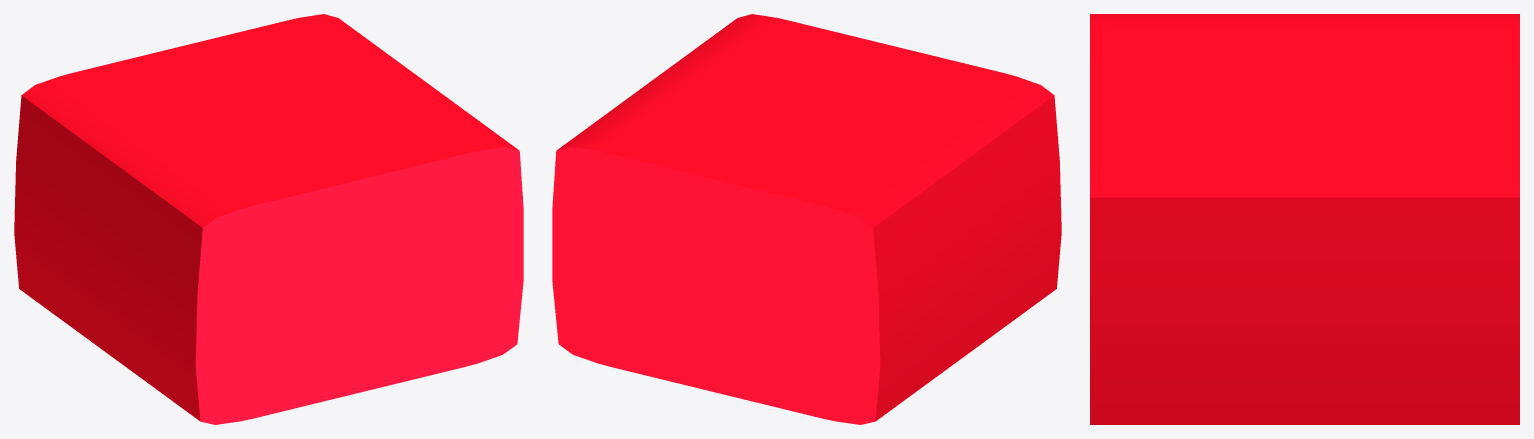
File: 9e096691-cfb4-4b2f-a790-40544fd21f9c.glb
3 views of the same model, side by side, from view 1: azimuth 30°, elevation 25°; view 2: azimuth 150°, elevation 25°; view 3: azimuth 270°, elevation 25° (orthographic). The views are drawn at different scales.
Visible parts, largest first — view 1: -_Zyzol_Red; view 2: -_Zyzol_Red; view 3: -_Zyzol_Red.
Part boxes in pixels (x1,y1,x2,y2): -_Zyzol_Red: [14, 14, 523, 424]; -_Zyzol_Red: [552, 14, 1061, 424]; -_Zyzol_Red: [1090, 14, 1519, 424].
Size of what is drawn, in the model's own units: 0.047 by 0.0291 by 0.045.
2 materials, 2 textured.
